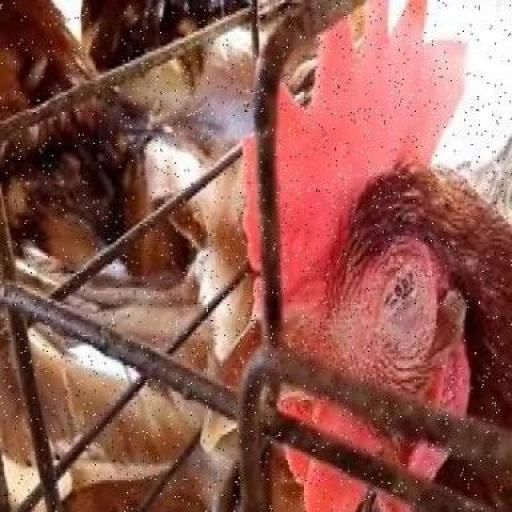disease: (321, 246, 512, 352)
